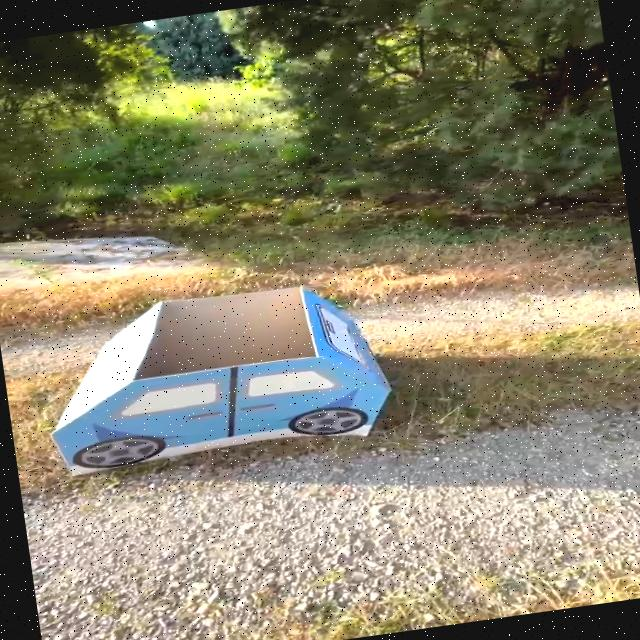blue_car: (38, 248, 463, 495)
